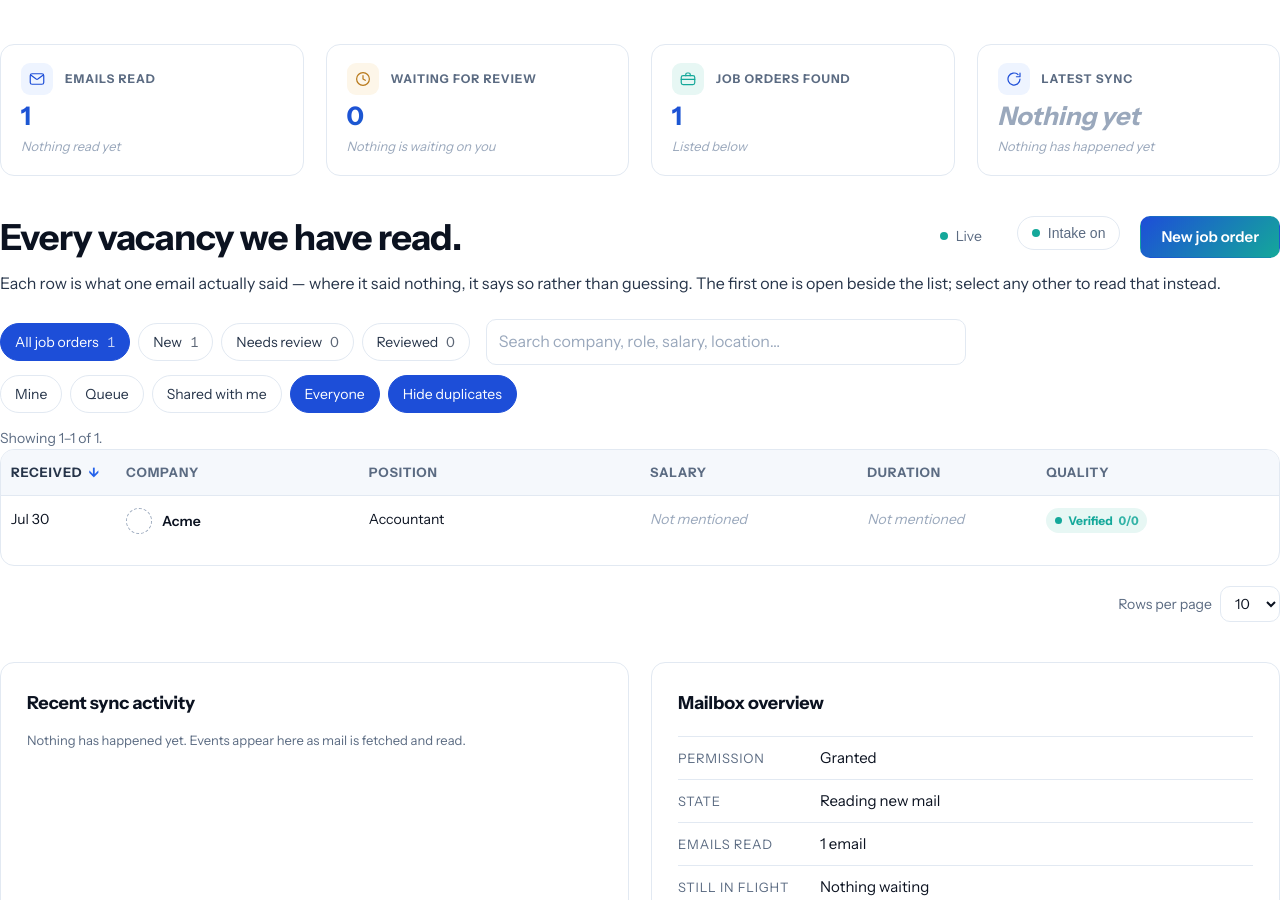
Test case: claiming a job order from the dashboard › leaves the panel and the list row both showing the new owner
This screenshot has width=1280, height=900.
Click the button with aria-label "Show details for Acme" at (181, 521), box [162,510,201,532]
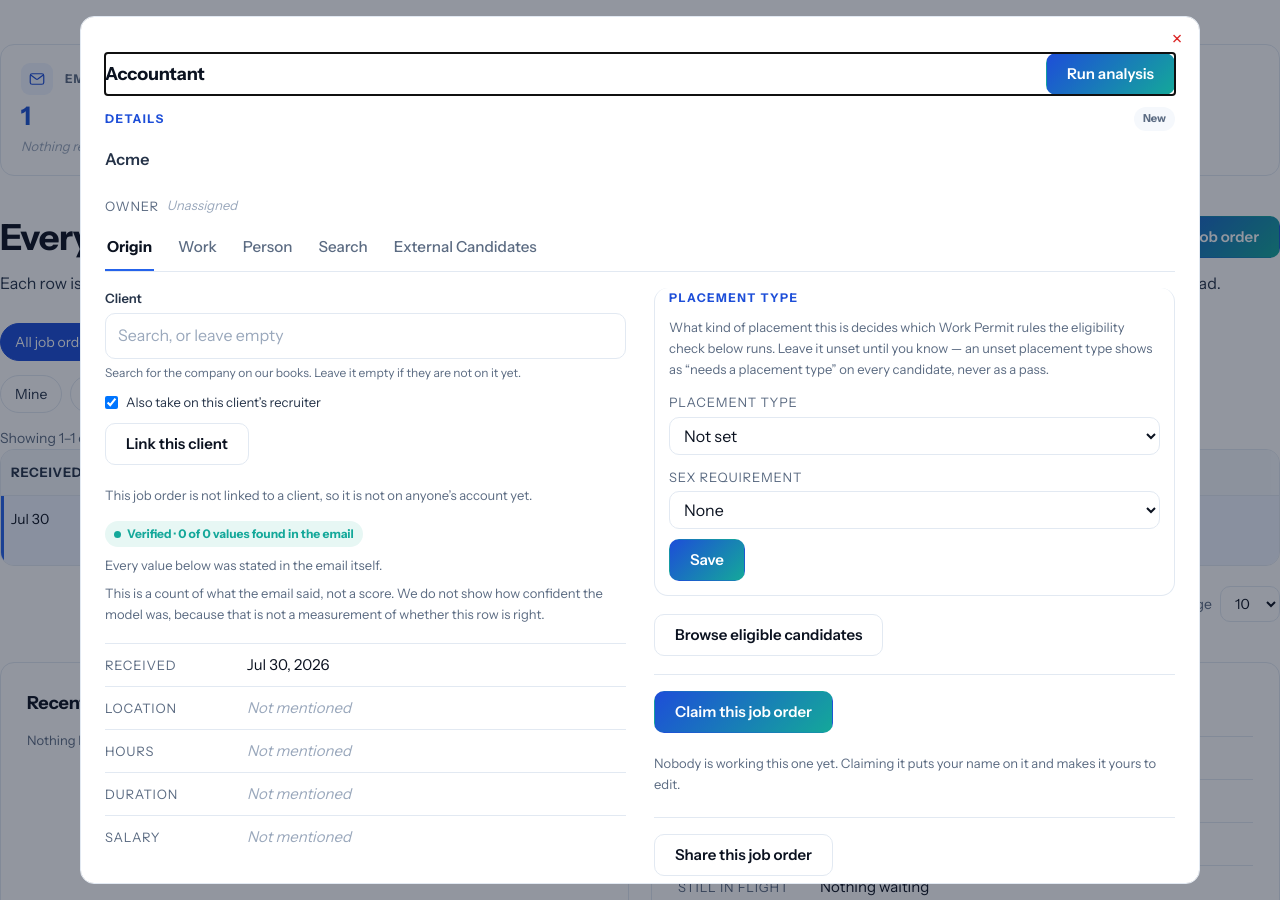
Click the button "Claim this job order" at (744, 712), box [654,692,833,734]
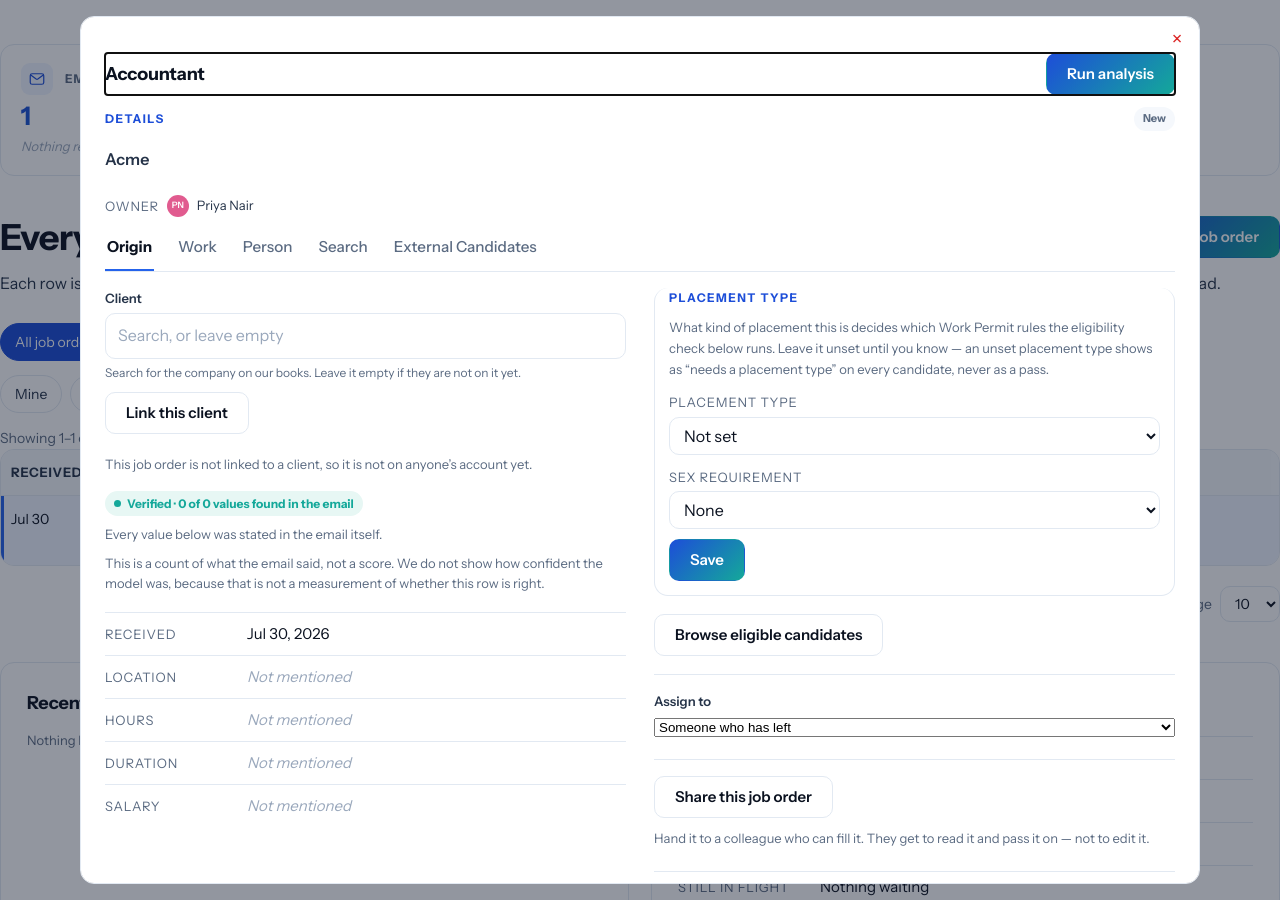
Now the element with test id "jo-detail-owner" shows "Priya Nair", box [197,197,254,213]
Now the button "Claim this job order" is gone
Now the text with test id "jo-detail-owner" no longer shows "Unassigned"
